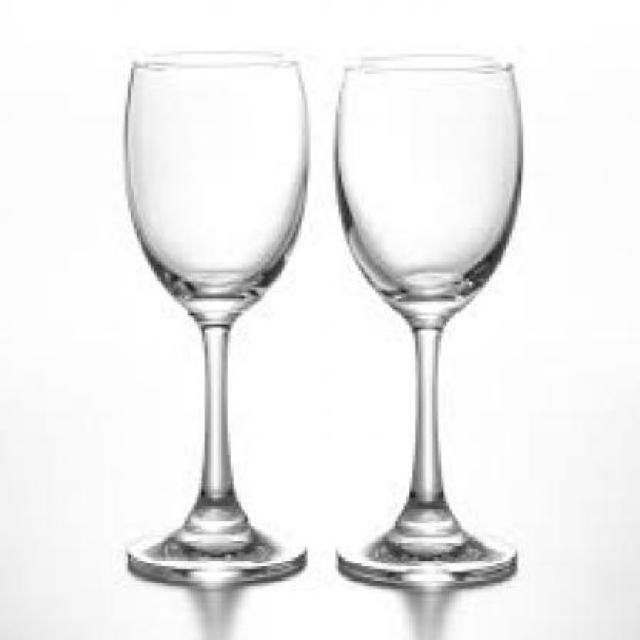kaca: (330, 60, 522, 583), (123, 48, 308, 583)
